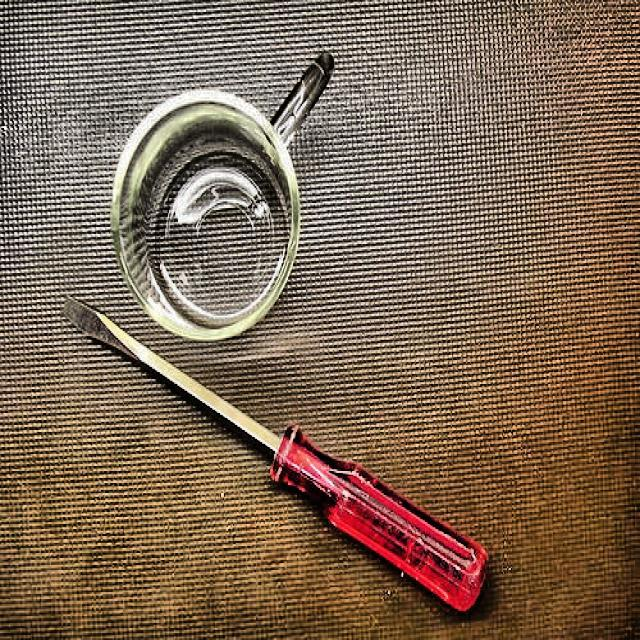screwdriver: (62, 296, 488, 610)
